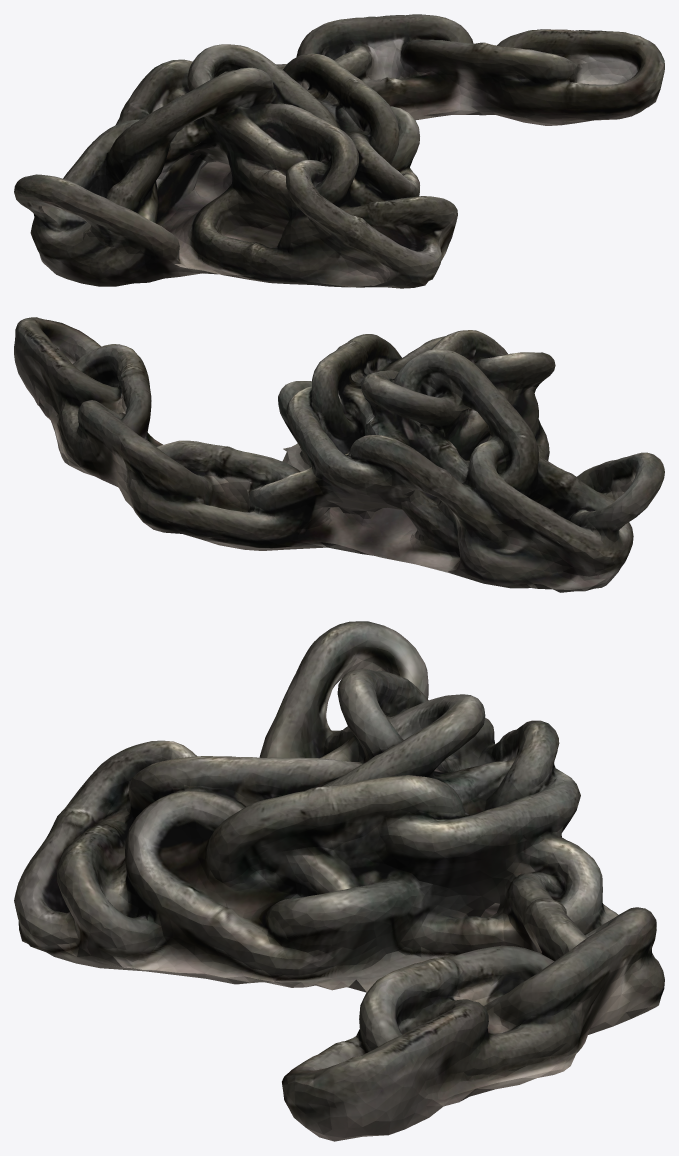
The model's file is Chain Links.glb.
3 views of the same model, one above another, from view 1: azimuth 30°, elevation 25°; view 2: azimuth 150°, elevation 25°; view 3: azimuth 270°, elevation 25° (orthographic). The views are drawn at different scales.
Size of the model in its own units: 0.5765 by 0.155 by 0.3569.
1 material, 1 textured.
